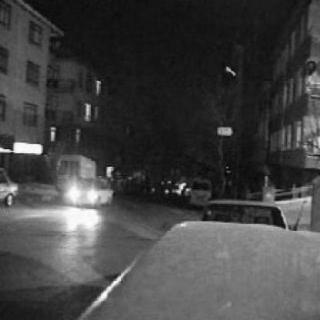other: (69, 178, 100, 220)
